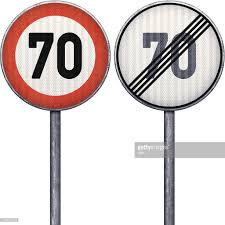Speed_limit_70km: (1, 2, 112, 111)
